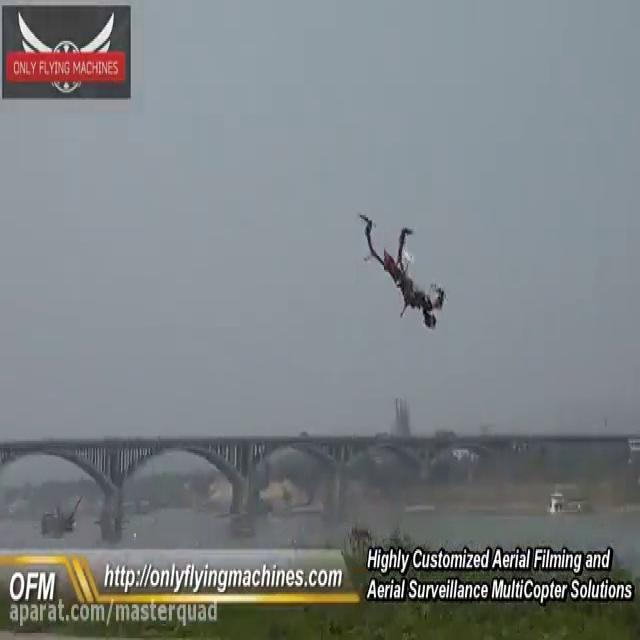drone: (355, 208, 450, 331)
